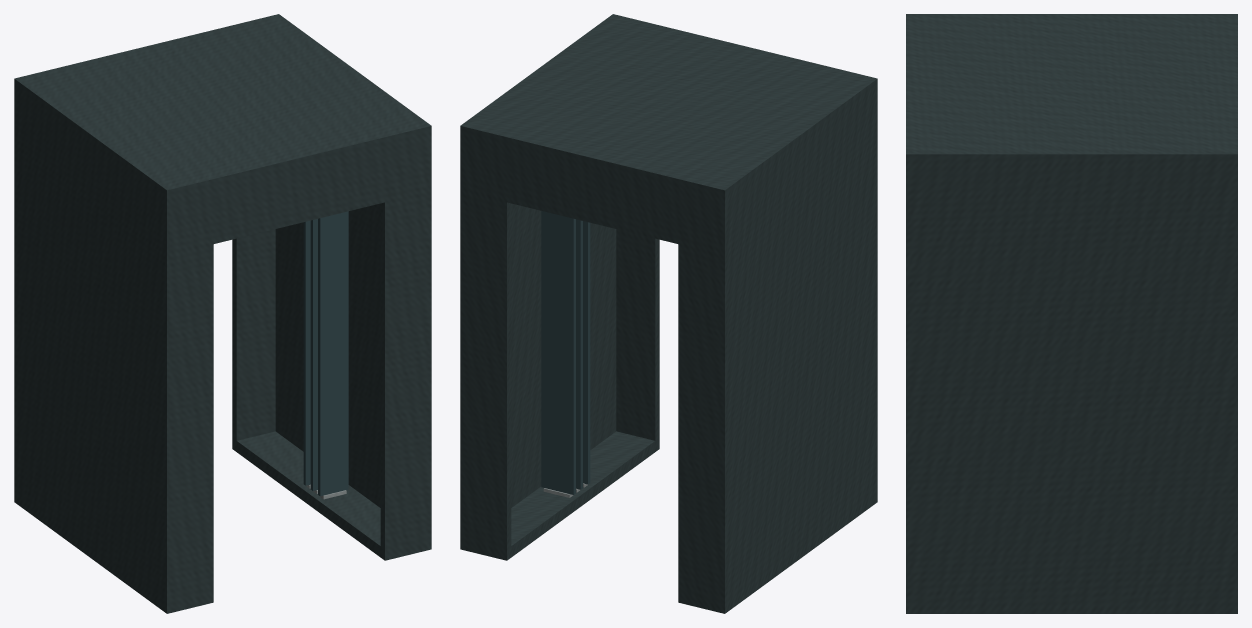
3 renders of one model, left to right at view 1: azimuth 30°, elevation 25°; view 2: azimuth 150°, elevation 25°; view 3: azimuth 270°, elevation 25°, orthographic. The views are drawn at different scales.
Parts seen in each view (by area): view 1: B023-08_housing_iron, B023-08_header_iron, B023-08_moving_tel_1_0_glass, B023-08_moving_tel_1_1_glass, B023-08_moving_tel_1_2_glass; view 2: B023-08_housing_iron, B023-08_header_iron, B023-08_moving_tel_1_2_glass, B023-08_moving_tel_1_0_glass, B023-08_moving_tel_1_1_glass; view 3: B023-08_housing_iron, B023-08_header_iron.
Part boxes in pixels (x1,y1,x2,y2): B023-08_housing_iron: (14,144,431,613); B023-08_header_iron: (14,14,431,255); B023-08_moving_tel_1_0_glass: (318,211,348,496); B023-08_moving_tel_1_1_glass: (310,219,317,490); B023-08_moving_tel_1_2_glass: (303,220,310,485); B023-08_housing_iron: (460,144,877,613); B023-08_header_iron: (460,14,877,255); B023-08_moving_tel_1_2_glass: (541,211,575,494); B023-08_moving_tel_1_0_glass: (583,221,590,484); B023-08_moving_tel_1_1_glass: (576,219,582,489); B023-08_housing_iron: (906,225,1237,613); B023-08_header_iron: (906,14,1237,224).
Size of the model in its own units: 1.7 by 2.6 by 1.7.
Materials: 4 (4 with a texture image).
